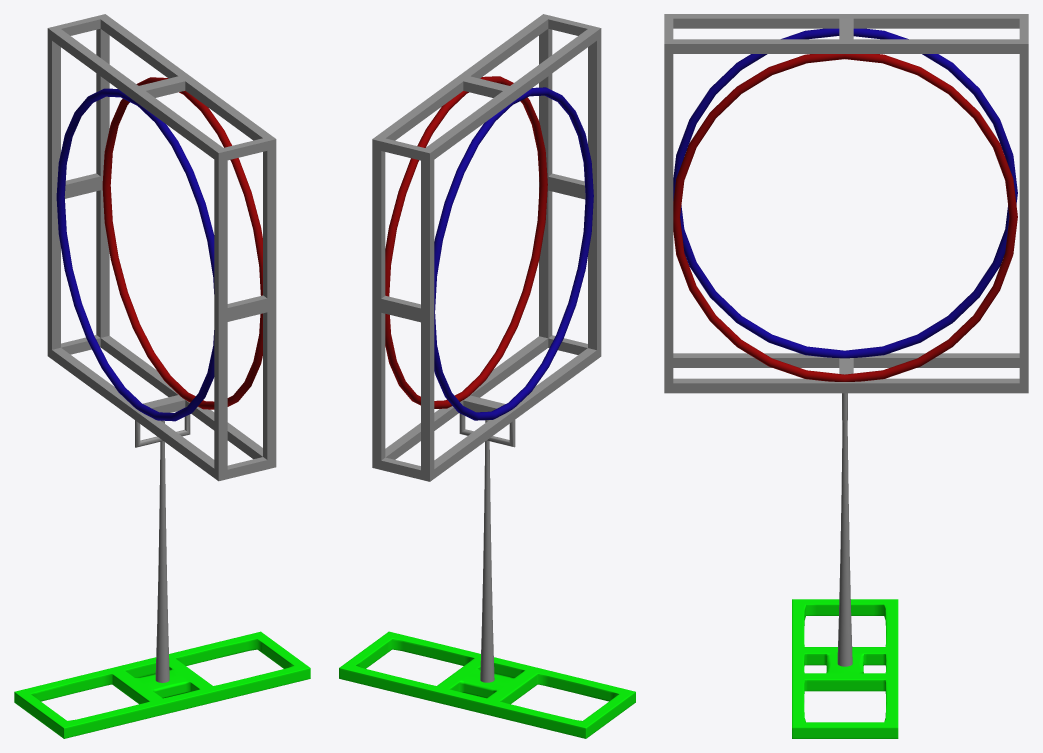
3 views of the same model, side by side, from view 1: azimuth 30°, elevation 25°; view 2: azimuth 150°, elevation 25°; view 3: azimuth 270°, elevation 25° (orthographic). The views are drawn at different scales.
Visible parts, largest first — view 1: dizuo; view 2: dizuo; view 3: dizuo.
Part boxes in pixels (bbox=[...]): dizuo: bbox=[14, 14, 310, 738]; dizuo: bbox=[339, 14, 635, 738]; dizuo: bbox=[664, 14, 1028, 738].
Size of the model in its own units: 100 by 235 by 120.
